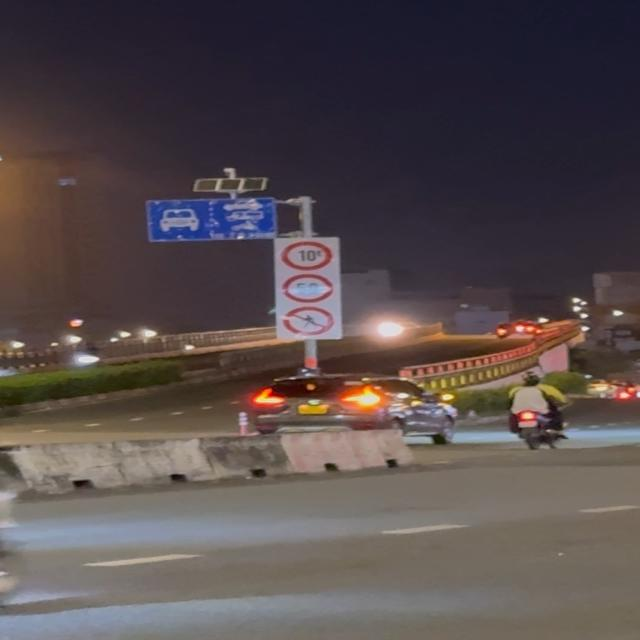Bien bao cam nguoi di bo: (281, 306, 339, 336)
Bien bao toc do toi da cho phep: (278, 273, 335, 307)
